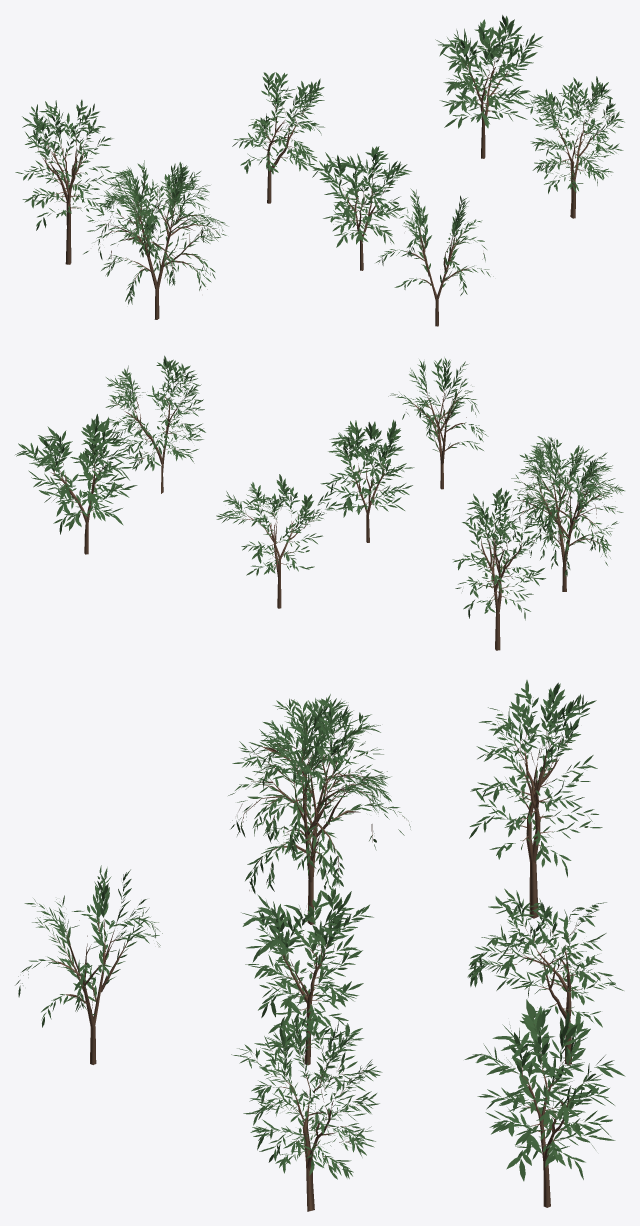
Rendered from lowpolytrees.glb.
The picture shows the model from 3 angles, top to bottom: view 1: azimuth 30°, elevation 25°; view 2: azimuth 150°, elevation 25°; view 3: azimuth 270°, elevation 25°; orthographic projection. The views are drawn at different scales.
Parts seen in each view (by area): view 1: tree_01; view 2: tree_01; view 3: tree_01.
Part boxes in pixels (x1,y1,x2,y2): tree_01: (15, 15, 624, 326); tree_01: (15, 355, 624, 650); tree_01: (15, 680, 625, 1211).
Size of the model in its own units: 2414 by 665 by 1663.
